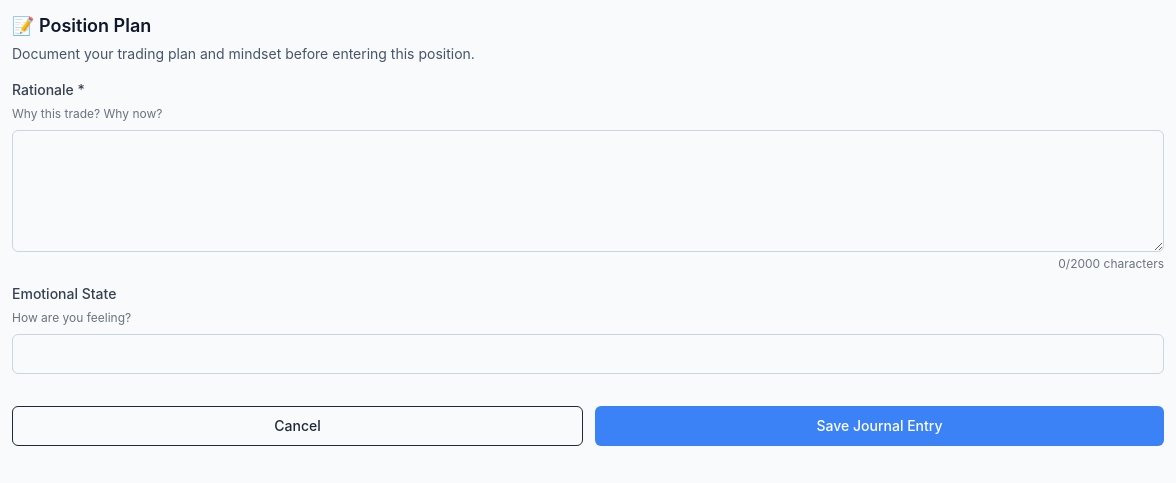
EnhancedJournalEntryForm › Flexible Journal Display (Migration Support) › should validate using stored required values from fields
This screenshot has width=1176, height=483.
Note: Try to submit with empty required field
Click the button "Save Journal Entry" at (880, 426), box [595,406,1164,446]
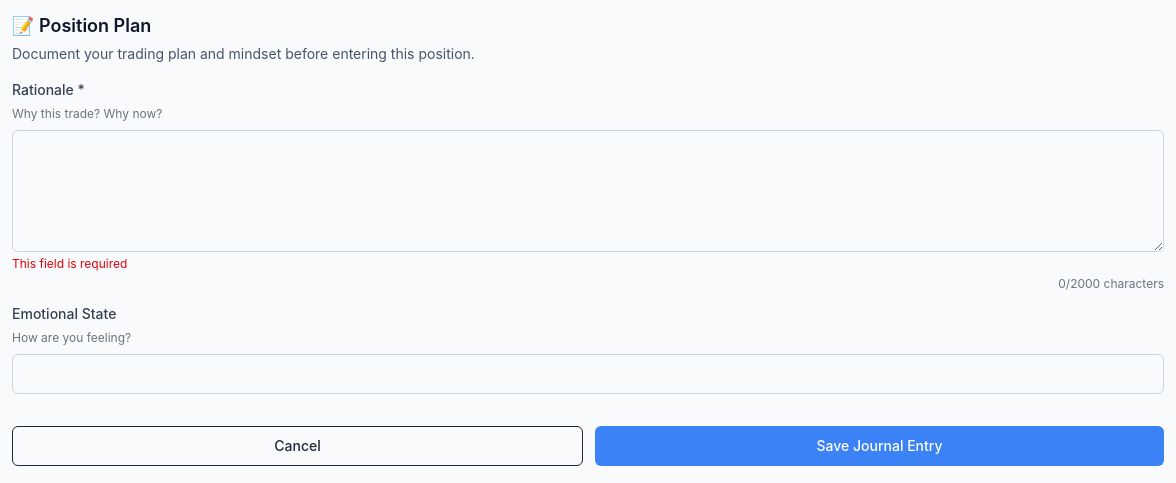
Now the text "This field is required" is shown, box [12,256,127,271]
